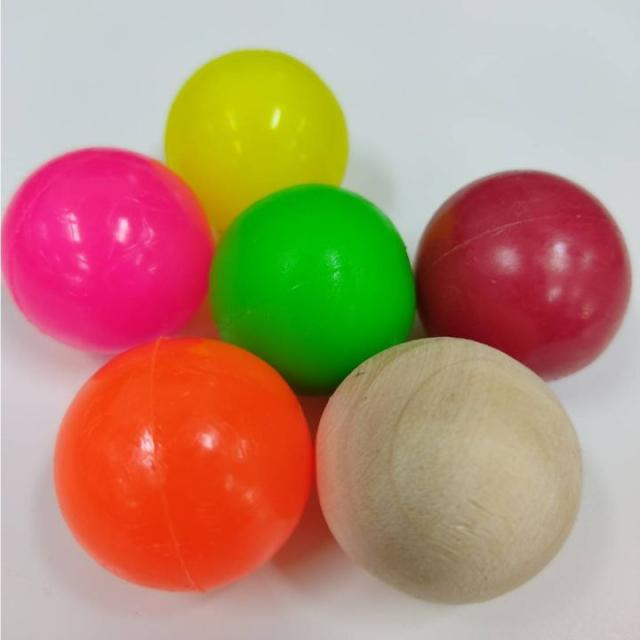hatball: (309, 339, 589, 620), (42, 338, 312, 596), (412, 171, 634, 384), (0, 147, 217, 352), (214, 182, 417, 392), (167, 49, 348, 235)
